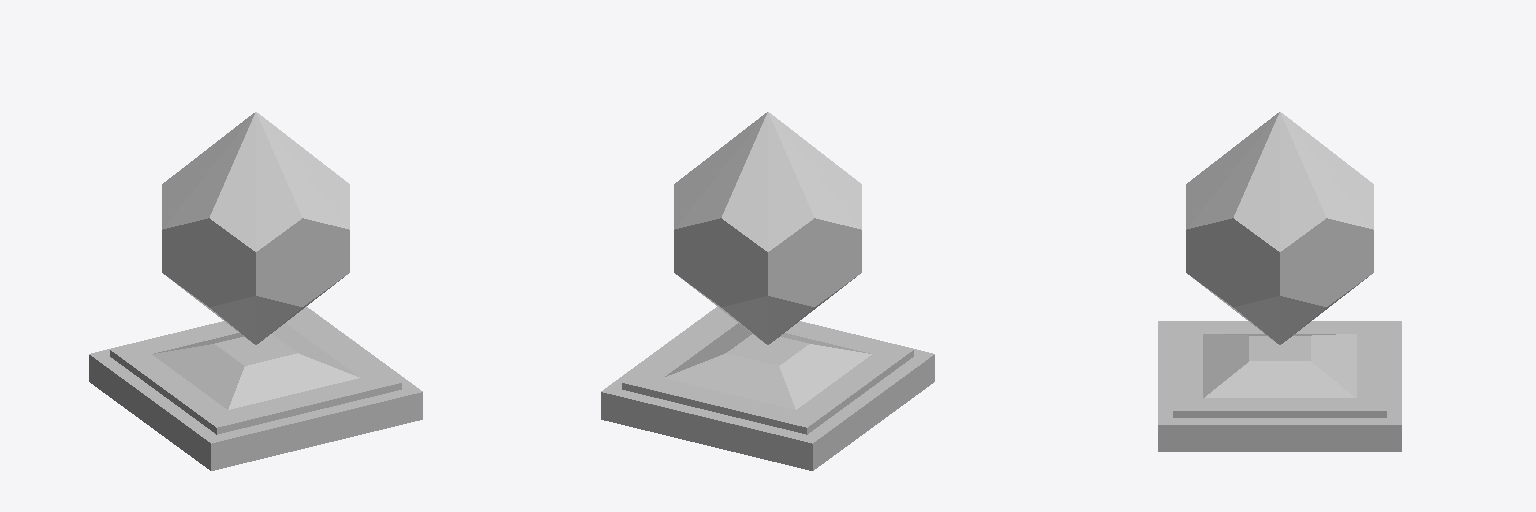
The model's file is radiant_chest.obj.
The picture shows the model from 3 angles: view 1: azimuth 30°, elevation 25°; view 2: azimuth 150°, elevation 25°; view 3: azimuth 270°, elevation 25°; orthographic projection.
Visible parts, largest first — view 1: matrix_reservoir; view 2: matrix_reservoir; view 3: matrix_reservoir.
Boxes of the visible parts, x1,y1,x2,y2 form: matrix_reservoir: [89, 112, 422, 470]; matrix_reservoir: [601, 112, 934, 470]; matrix_reservoir: [1158, 112, 1401, 451].
Size of the model in its own units: 0.7874 by 1.03 by 0.7874.